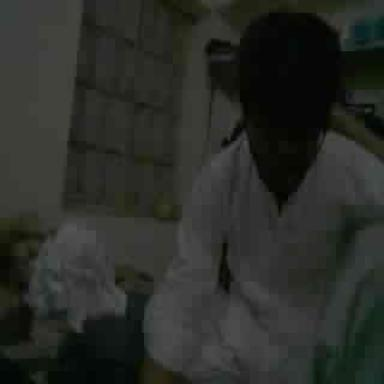paper: (28, 222, 125, 331)
